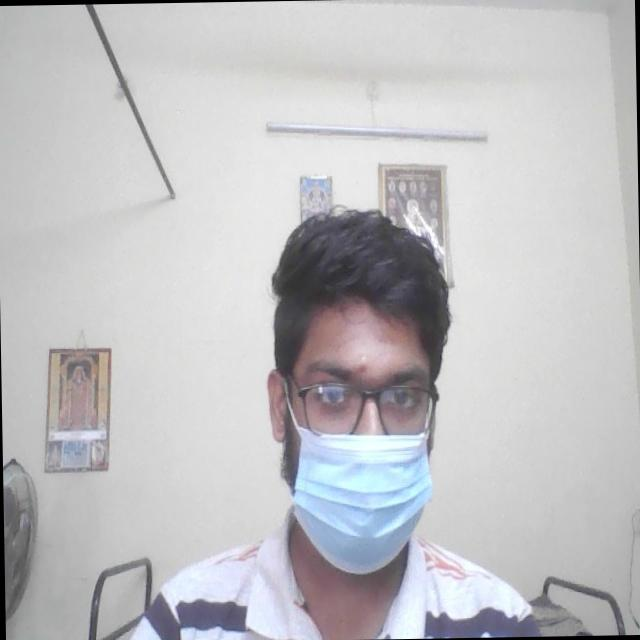Focused: (296, 352, 444, 534)
